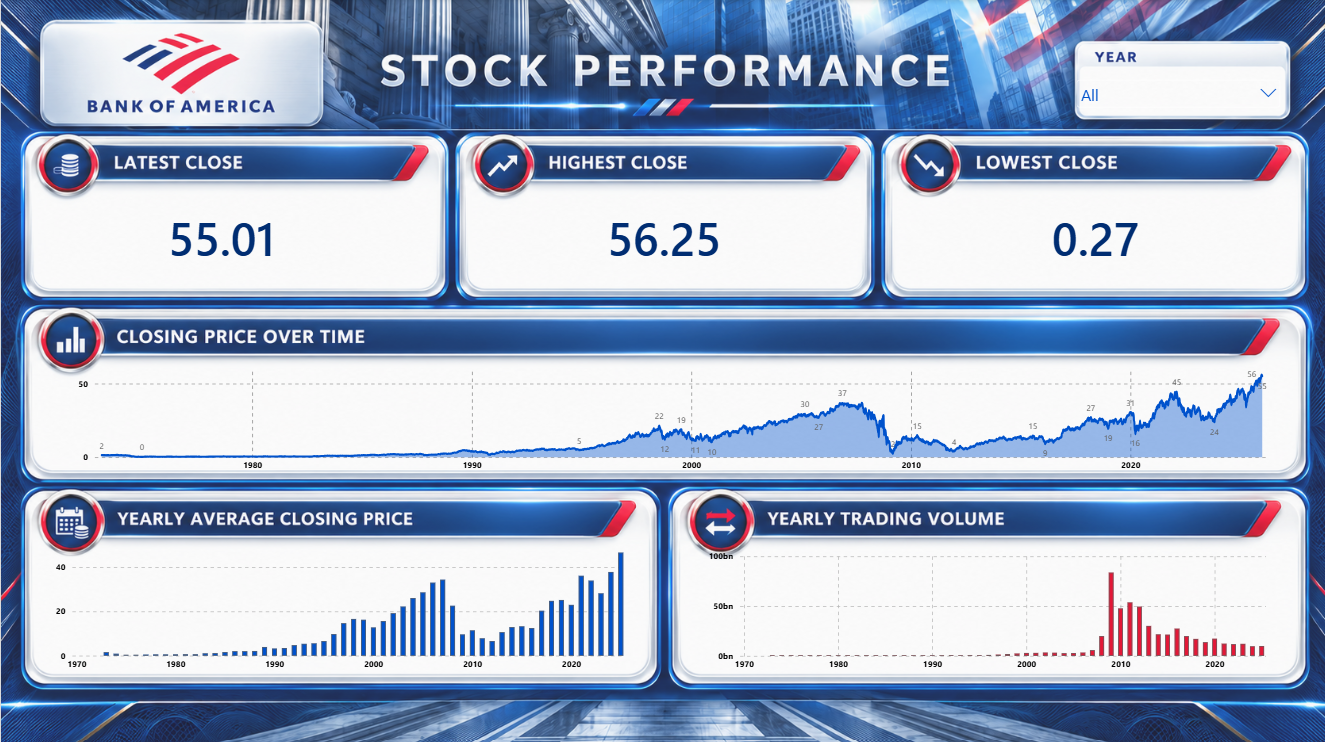

What the dashboard file says about the page in this screenshot:
{"tool":"powerbi","page":{"name":"Stock Performance","canvas":[1920,1080],"ordinal":0},"visuals":[{"type":"cardVisual","fields":{"Data":["BAC.Latest Close"]},"box":[80,272,480,144],"z":0},{"type":"cardVisual","fields":{"Data":["BAC.Highest Close"]},"box":[720,272,480,144],"z":1000},{"type":"cardVisual","fields":{"Data":["BAC.Lowest Close"]},"box":[1344,272,480,144],"z":2000},{"type":"lineChart","fields":{"Category":["BAC.Date"],"Y":["Avg(BAC.Close)"]},"box":[96,512,1760,192],"z":3000},{"type":"columnChart","fields":{"Category":["BAC.Year"],"Y":["Avg(BAC.Close)"]},"box":[64,768,864,224],"z":4000},{"type":"clusteredColumnChart","fields":{"Category":["BAC.Year"],"Y":["Sum(BAC.Volume)"]},"box":[1008,784,848,208],"z":5000},{"type":"slicer","fields":{"Values":["BAC.Year"]},"box":[1552,112,304,80],"z":6000}]}

Visuals, with their boxes in screenshot pixels (x1, y1, x2, y2), scaled from the page's 1920x1080 canvas onto the 1325x742 screenshot:
cardVisual - BAC.Latest Close: box=[55, 187, 386, 286]
cardVisual - BAC.Highest Close: box=[497, 187, 828, 286]
cardVisual - BAC.Lowest Close: box=[928, 187, 1259, 286]
lineChart - BAC.Date x Avg(BAC.Close): box=[66, 352, 1281, 484]
columnChart - BAC.Year x Avg(BAC.Close): box=[44, 528, 640, 682]
clusteredColumnChart - BAC.Year x Sum(BAC.Volume): box=[696, 539, 1281, 682]
slicer - BAC.Year: box=[1071, 77, 1281, 132]
